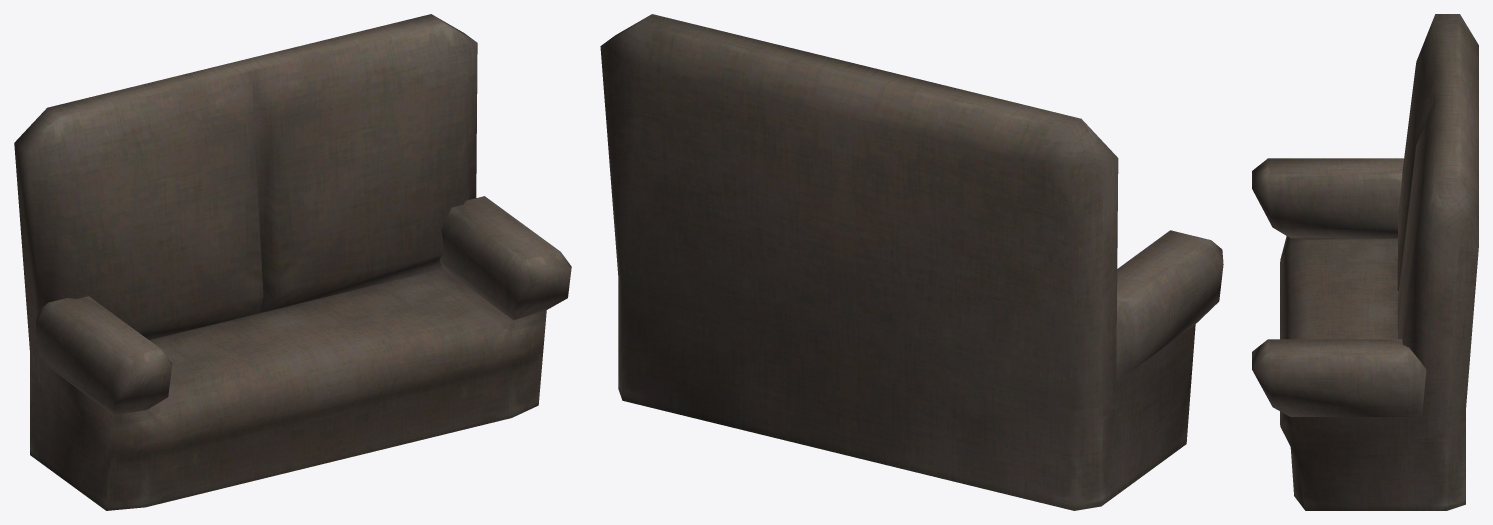
The model's file is frn_all_couch_love_seat_s2_l0.fbx.
3 views of the same model, side by side, from view 1: azimuth 30°, elevation 25°; view 2: azimuth 150°, elevation 25°; view 3: azimuth 270°, elevation 25° (orthographic). The views are drawn at different scales.
Visible parts, largest first — view 1: mesh_node; view 2: mesh_node; view 3: mesh_node.
Boxes of the visible parts, x1,y1,x2,y2 form: mesh_node: (14, 14, 571, 510); mesh_node: (600, 14, 1223, 510); mesh_node: (1252, 14, 1478, 510).
Bounding box in the file's own units: 1.77 × 1.24 × 0.8148.
